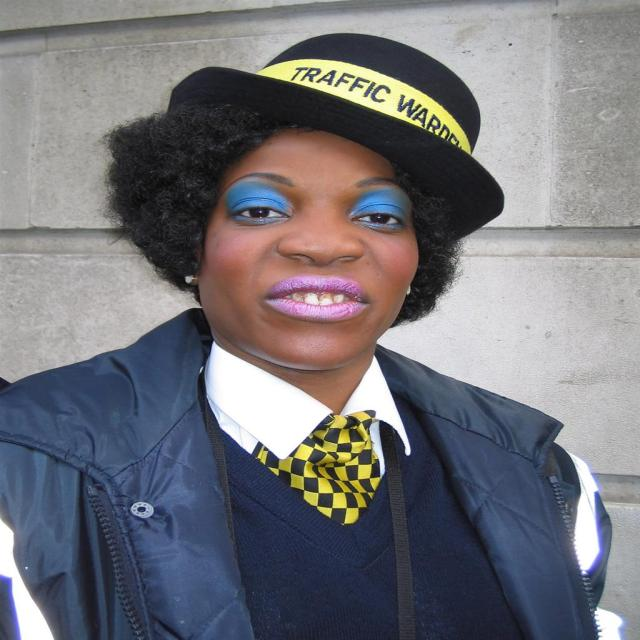Face: (201, 111, 434, 367)
